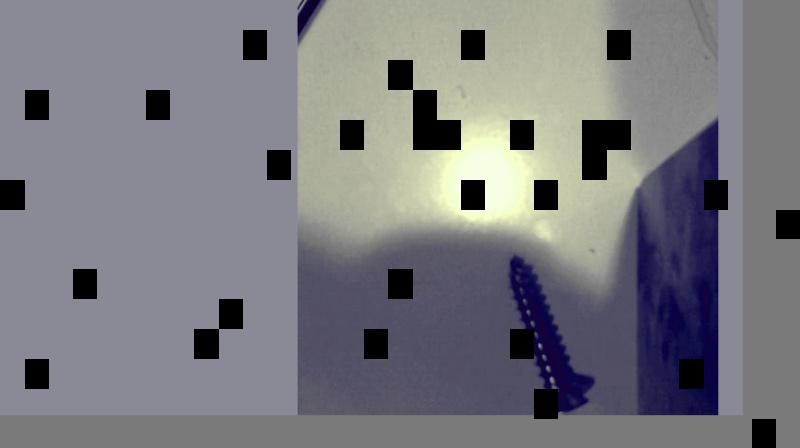S001: (506, 250, 592, 421)
